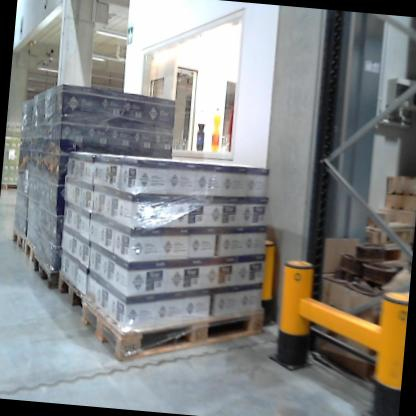pallet: (78, 287, 272, 378), (53, 271, 88, 320), (32, 253, 61, 290), (24, 238, 41, 270), (10, 228, 29, 256), (3, 185, 22, 192)
